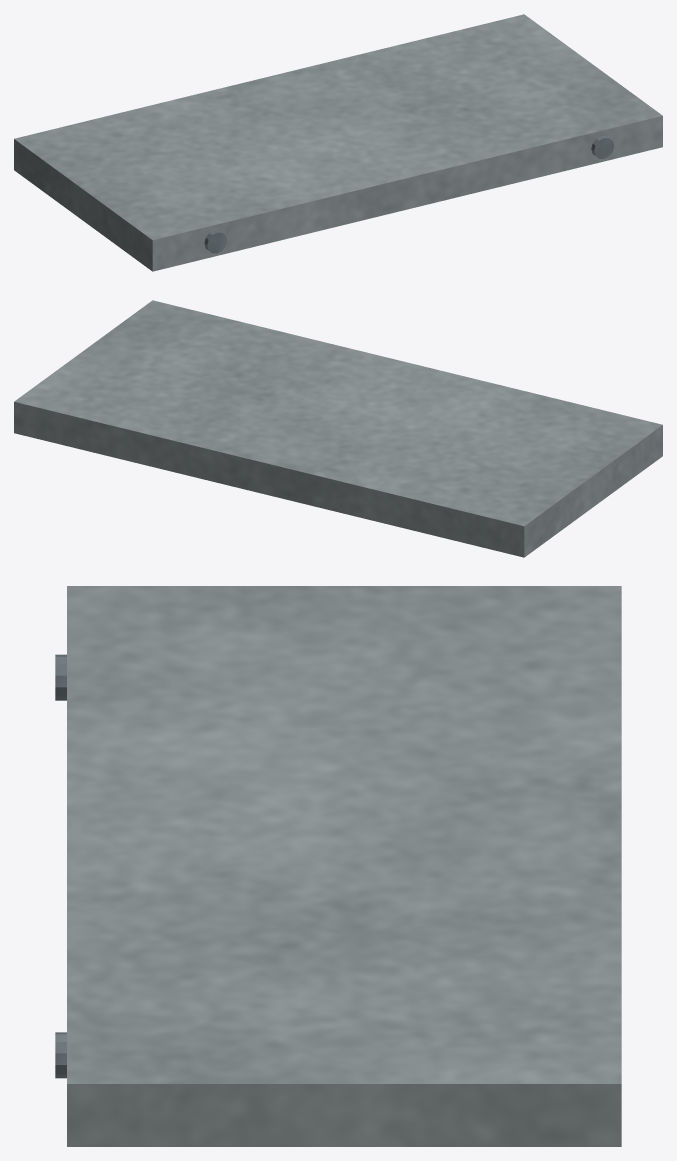
Rendered from PZ_InteriorTrim_V16_PipeChase_EndCap.glb.
3 renders of one model, top to bottom at view 1: azimuth 30°, elevation 25°; view 2: azimuth 150°, elevation 25°; view 3: azimuth 270°, elevation 25°, orthographic. The views are drawn at different scales.
Visible parts, largest first — view 1: V16_PipeChase_EndCap__Chase_Cap_Shell, V16_PipeChase_EndCap__Cap_Fastener_01, V16_PipeChase_EndCap__Cap_Fastener_02; view 2: V16_PipeChase_EndCap__Chase_Cap_Shell; view 3: V16_PipeChase_EndCap__Chase_Cap_Shell.
Part boxes in pixels (x1=…): V16_PipeChase_EndCap__Chase_Cap_Shell: x1=14, y1=14, x2=662, y2=271; V16_PipeChase_EndCap__Cap_Fastener_01: x1=204, y1=230, x2=227, y2=253; V16_PipeChase_EndCap__Cap_Fastener_02: x1=591, y1=136, x2=613, y2=158; V16_PipeChase_EndCap__Chase_Cap_Shell: x1=14, y1=300, x2=662, y2=557; V16_PipeChase_EndCap__Chase_Cap_Shell: x1=67, y1=586, x2=621, y2=1146.
Bounding box in the file's own units: 0.306 × 0.018 × 0.147.
Materials: 2 (2 with a texture image).
